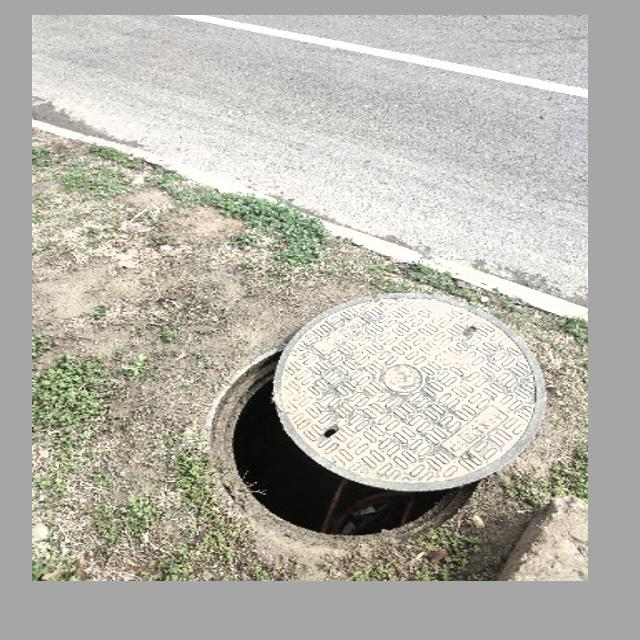uncovered: (211, 290, 545, 550)
